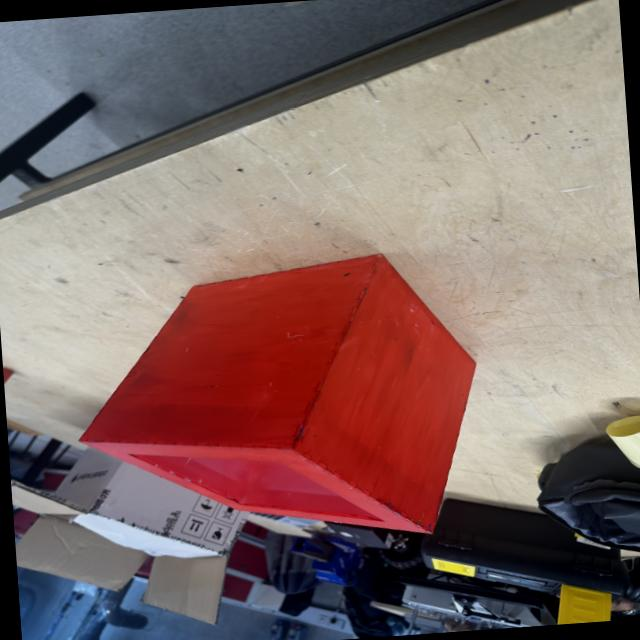red_bin: (68, 245, 489, 560)
